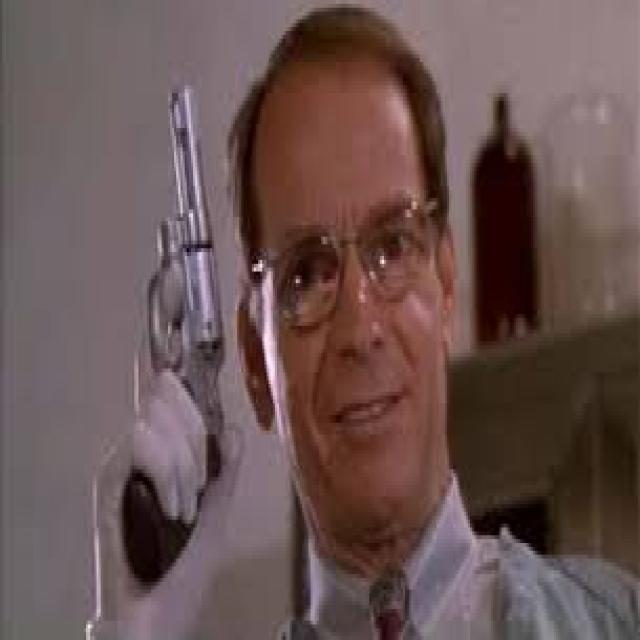gun: (90, 38, 252, 597)
